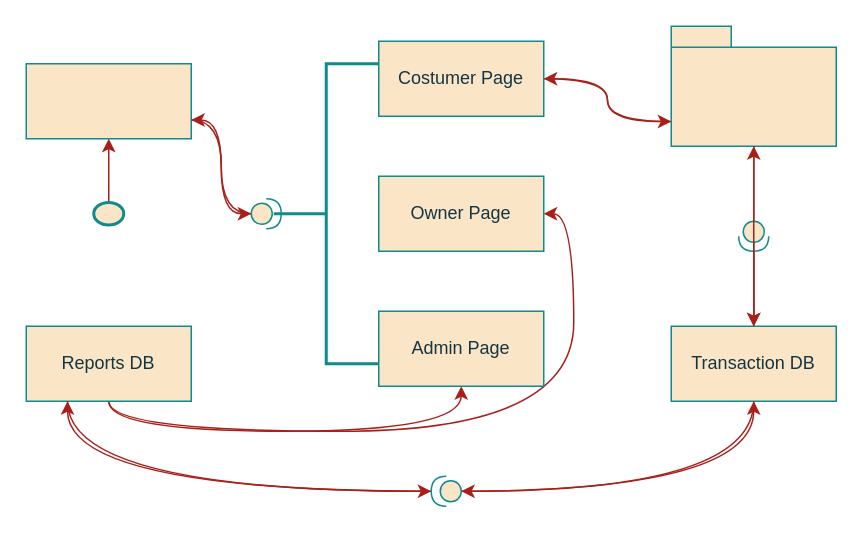
This 863x533 diagram has some shape labels left out. Here are the shapes that lost their labels. From the top down, the centre of each, then its label:
At point (108, 100): "User DB".
At point (753, 85): "Rental Transaction".
